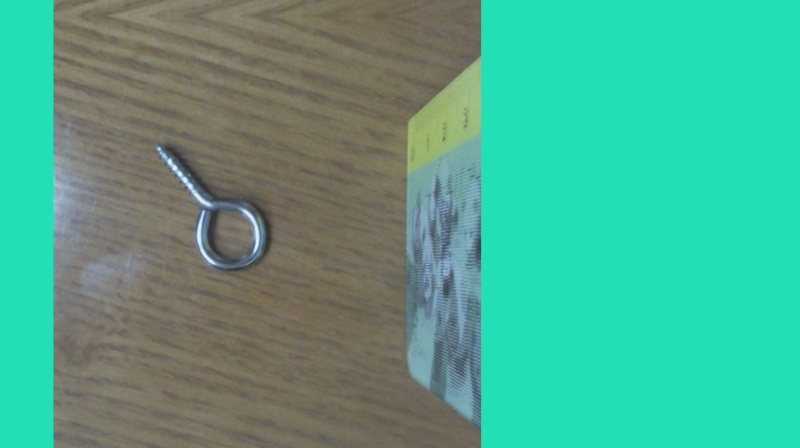O001: (150, 138, 271, 273)
